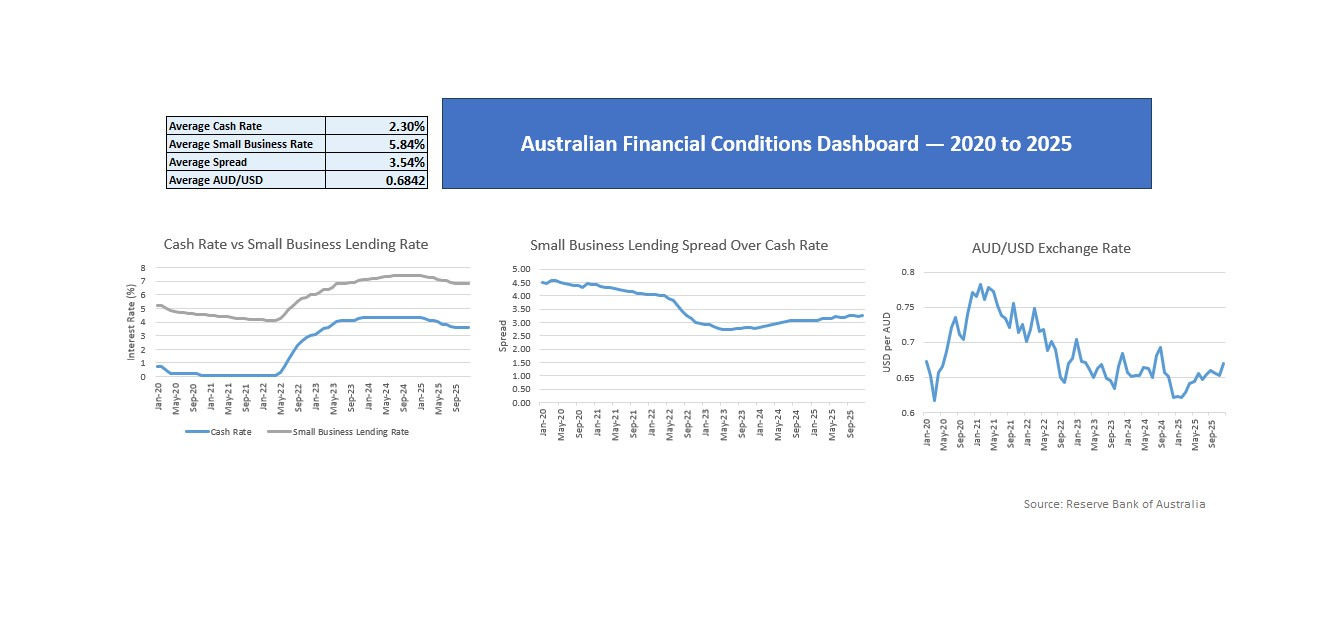

This screenshot's page, from the dashboard's own definition file:
{"tool":"powerbi","page":{"name":"Page 1","canvas":[1600,1200],"ordinal":0},"visuals":[{"type":"cardVisual","fields":{"Data":["Cash_Rates2.Average Cash Rate"]},"box":[163.1,136.2,220.4,88.3],"z":0},{"type":"cardVisual","fields":{"Data":["Business_Rates3.Average Lending Rate"]},"box":[383.8,136.2,220.4,88.3],"z":1000},{"type":"cardVisual","fields":{"Data":["Financial_Conditions4.Average Lending Spread"]},"box":[604.6,139.2,221.5,81.5],"z":2000},{"type":"cardVisual","fields":{"Data":["Exchange_Rates1.Average AUD/USD"]},"box":[826.2,136.2,220.4,88.3],"z":3000},{"type":"lineChart","title":"Cash Rate vs Small Business Lending Rate","fields":{"Category":["Financial_Conditions4.Date"],"Y":["Avg(Financial_Conditions4.Cash_Rates)","Avg(Financial_Conditions4.Small_Business_Total)"]},"box":[163.1,239.2,882.3,250],"z":4000},{"type":"lineChart","title":"Small Business Lending Spread","fields":{"Category":["Financial_Conditions4.Date"],"Y":["Financial_Conditions4.Average Lending Spread"]},"box":[162.7,510.9,430,250],"z":5000},{"type":"lineChart","title":"AUD/USD Exchange Rate","fields":{"Category":["Financial_Conditions4.Date"],"Y":["Avg(Financial_Conditions4.AUD/USD)"]},"box":[623.6,510.9,420.9,250],"z":6000},{"type":"textbox","box":[162.7,45.5,487.7,75.4],"z":7000},{"type":"textbox","box":[162.7,94.5,255.4,33.1],"z":8000},{"type":"shape","box":[162.7,782.7,881.8,208.2],"z":9000},{"type":"textbox","box":[170.9,791.8,864.5,183.6],"z":10000}]}

Visuals, with their boxes on the page's 1600x1200 design canvas (x1, y1, x2, y2). These are canvas units, not pixel positions in the 1344x643 screenshot, which may show the page scaled, cropped or inside an application window:
cardVisual - Cash_Rates2.Average Cash Rate: bbox=[163, 136, 384, 224]
cardVisual - Business_Rates3.Average Lending Rate: bbox=[384, 136, 604, 224]
cardVisual - Financial_Conditions4.Average Lending Spread: bbox=[605, 139, 826, 221]
cardVisual - Exchange_Rates1.Average AUD/USD: bbox=[826, 136, 1047, 224]
"Cash Rate vs Small Business Lending Rate" lineChart: bbox=[163, 239, 1045, 489]
"Small Business Lending Spread" lineChart: bbox=[163, 511, 593, 761]
"AUD/USD Exchange Rate" lineChart: bbox=[624, 511, 1044, 761]
textbox: bbox=[163, 46, 650, 121]
textbox: bbox=[163, 94, 418, 128]
shape: bbox=[163, 783, 1044, 991]
textbox: bbox=[171, 792, 1035, 975]
